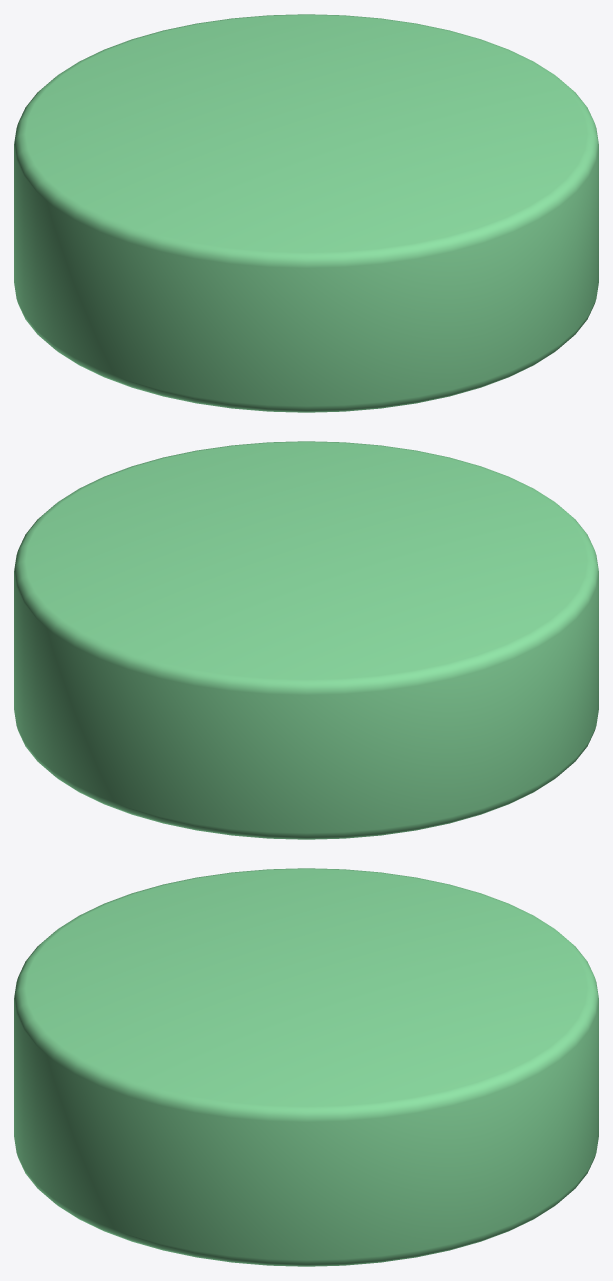
The model's file is SM_FlickDisk_100.fbx.
The picture shows the model from 3 angles, top to bottom: view 1: azimuth 30°, elevation 25°; view 2: azimuth 150°, elevation 25°; view 3: azimuth 270°, elevation 25°; orthographic projection.
Visible parts, largest first — view 1: SM_FlickDisk_100; view 2: SM_FlickDisk_100; view 3: SM_FlickDisk_100.
Part boxes in pixels (x1,y1,x2,y2): SM_FlickDisk_100: [14, 14, 598, 412]; SM_FlickDisk_100: [14, 441, 598, 839]; SM_FlickDisk_100: [14, 868, 598, 1266].
Bounding box in the file's own units: 1 × 0.3 × 1.
